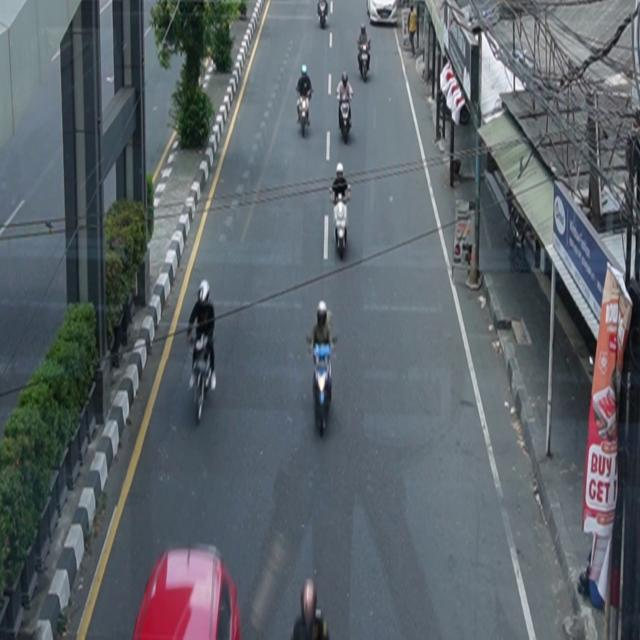car: (133, 545, 242, 640), (367, 1, 398, 26)
